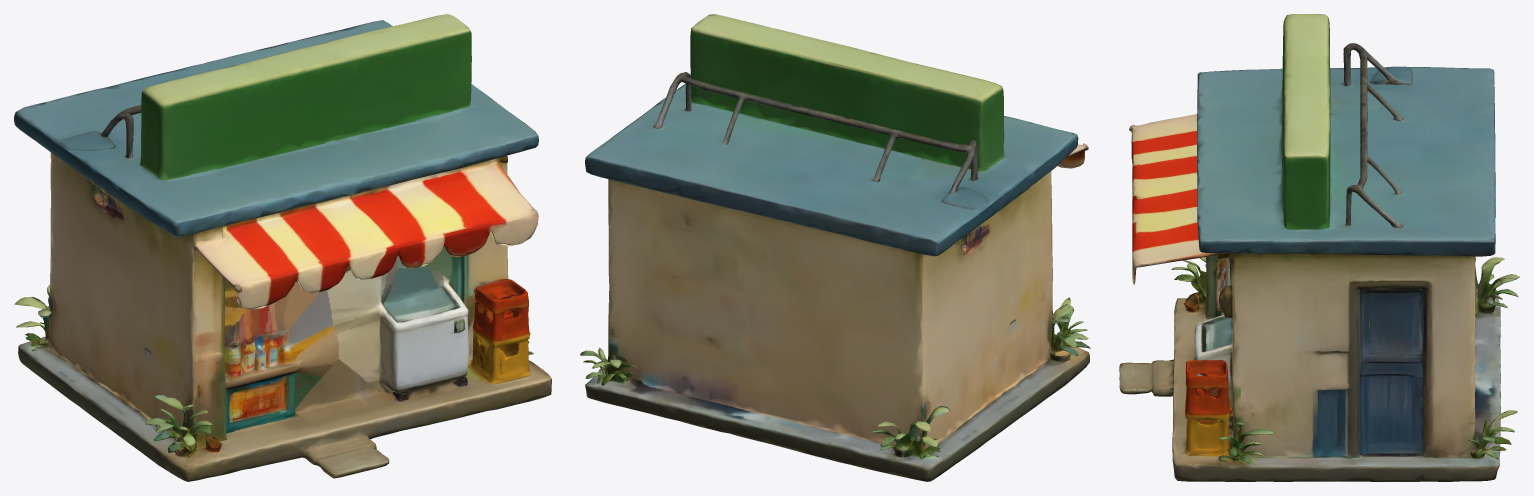
Rendered from kedai.glb.
3 renders of one model, left to right at view 1: azimuth 30°, elevation 25°; view 2: azimuth 150°, elevation 25°; view 3: azimuth 270°, elevation 25°, orthographic. The views are drawn at different scales.
Size of the model in its own units: 0.9959 by 0.815 by 0.9303.
Materials: 1 (1 with a texture image).
